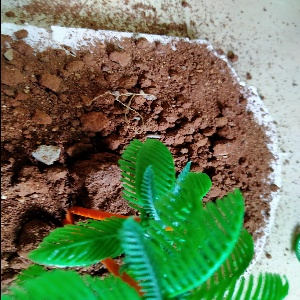plant: (1, 137, 290, 300)
